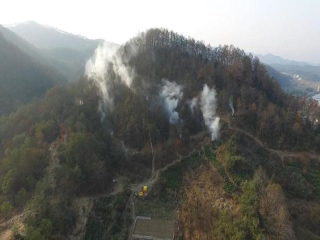smoke: (84, 42, 234, 143)
